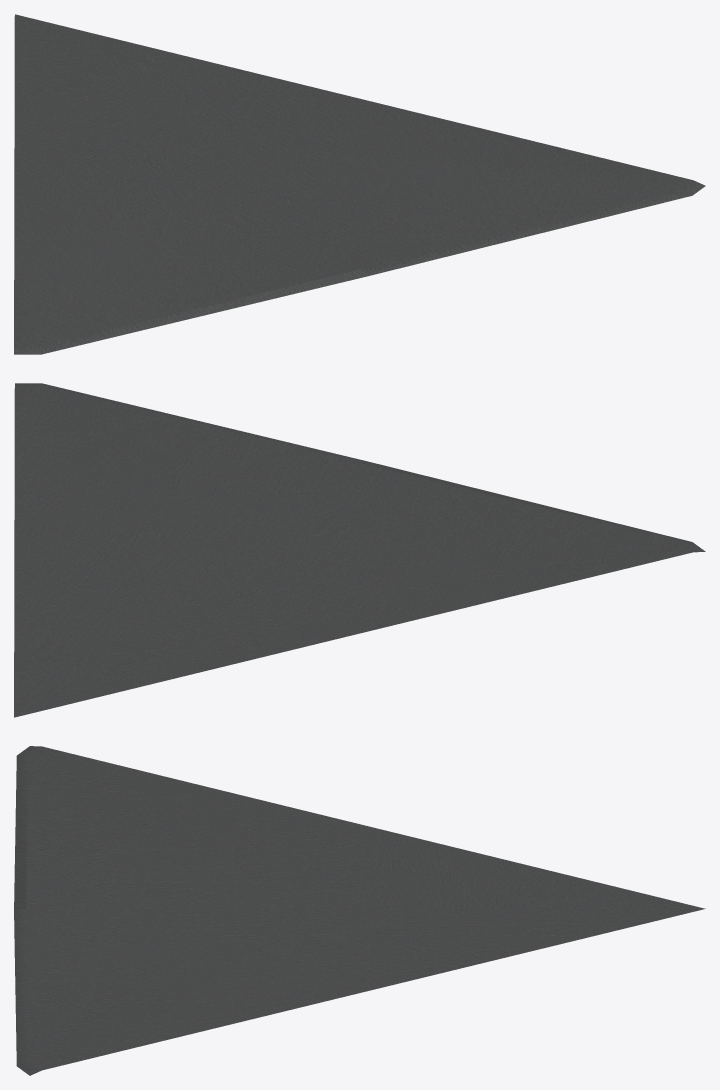
The model's file is floor04.FBX.
The picture shows the model from 3 angles, top to bottom: view 1: azimuth 30°, elevation 25°; view 2: azimuth 150°, elevation 25°; view 3: azimuth 270°, elevation 25°; orthographic projection. The views are drawn at different scales.
Visible parts, largest first — view 1: floor04; view 2: floor04; view 3: floor04.
Boxes of the visible parts, box(x1,y1,x2,y2) form: floor04: box(14, 14, 705, 354); floor04: box(14, 383, 705, 717); floor04: box(14, 746, 705, 1075).
Bounding box in the file's own units: 258 × 0.9204 × 228.
1 material, 1 textured.
